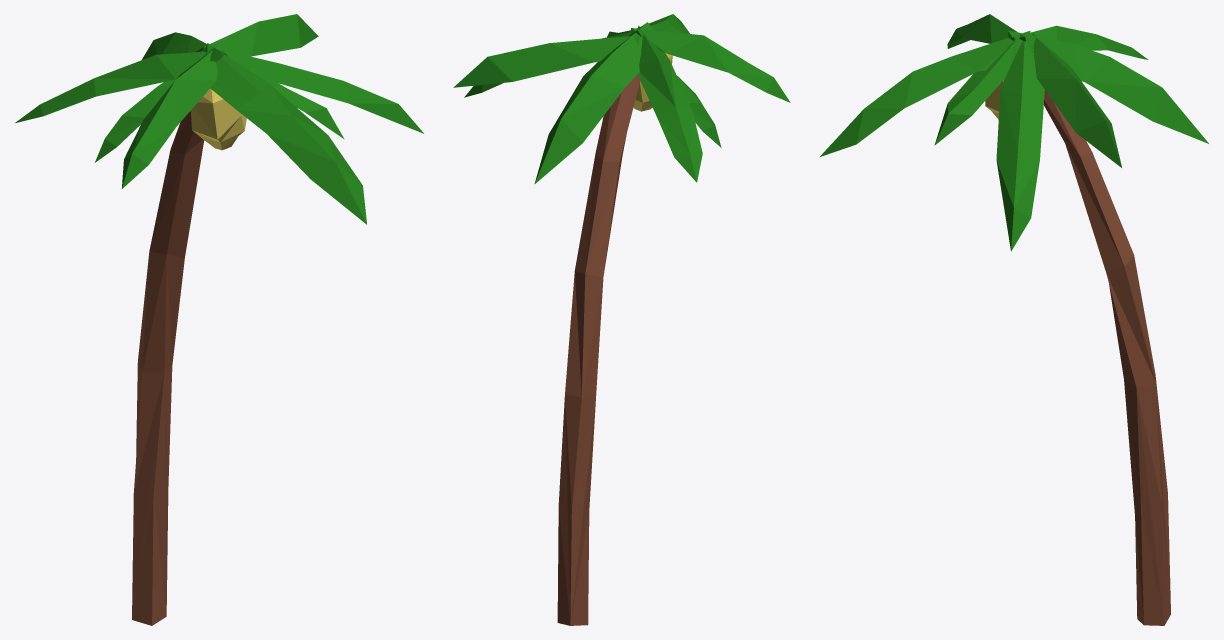
Rendered from Tree_11_summer_mat.fbx.
3 renders of one model, left to right at view 1: azimuth 30°, elevation 25°; view 2: azimuth 150°, elevation 25°; view 3: azimuth 270°, elevation 25°, orthographic. The views are drawn at different scales.
Visible parts, largest first — view 1: Tree_11_summer_mat; view 2: Tree_11_summer_mat; view 3: Tree_11_summer_mat.
Part boxes in pixels (x1=…): Tree_11_summer_mat: x1=15, y1=14, x2=423, y2=625; Tree_11_summer_mat: x1=453, y1=14, x2=790, y2=625; Tree_11_summer_mat: x1=820, y1=14, x2=1208, y2=625.
Size of the model in its own units: 4.66 by 8.27 by 4.97.
